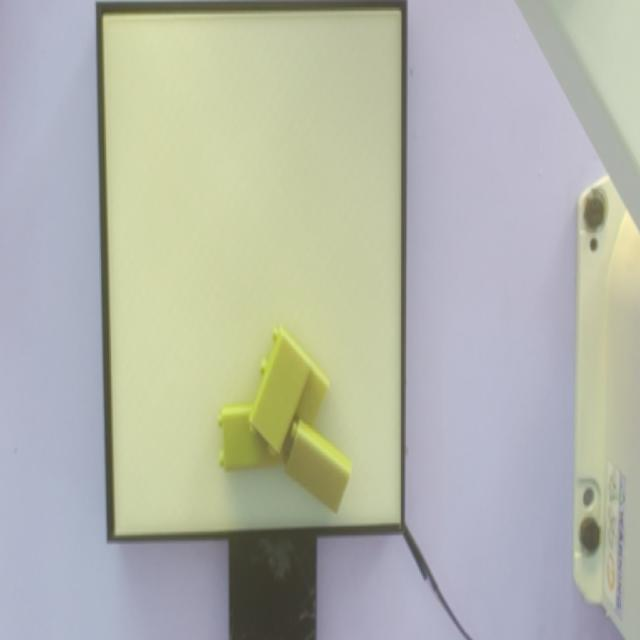bateria: (248, 330, 314, 460)
mesa: (97, 1, 407, 543)
